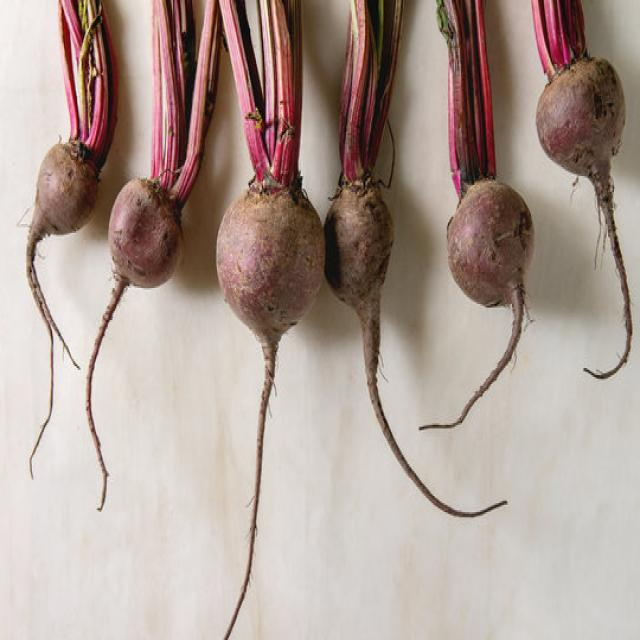Beetroot: (321, 0, 509, 519), (213, 0, 325, 636), (84, 0, 222, 510), (418, 0, 534, 432), (20, 0, 120, 478), (529, 0, 631, 380)
Spinach: (18, 0, 632, 635)
